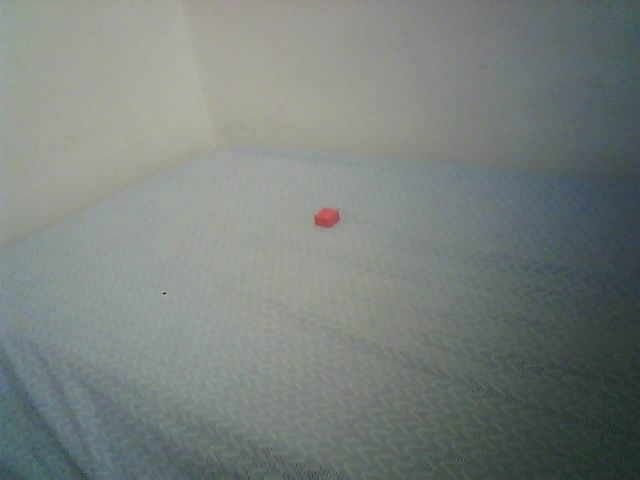lego: (314, 207, 340, 228)
